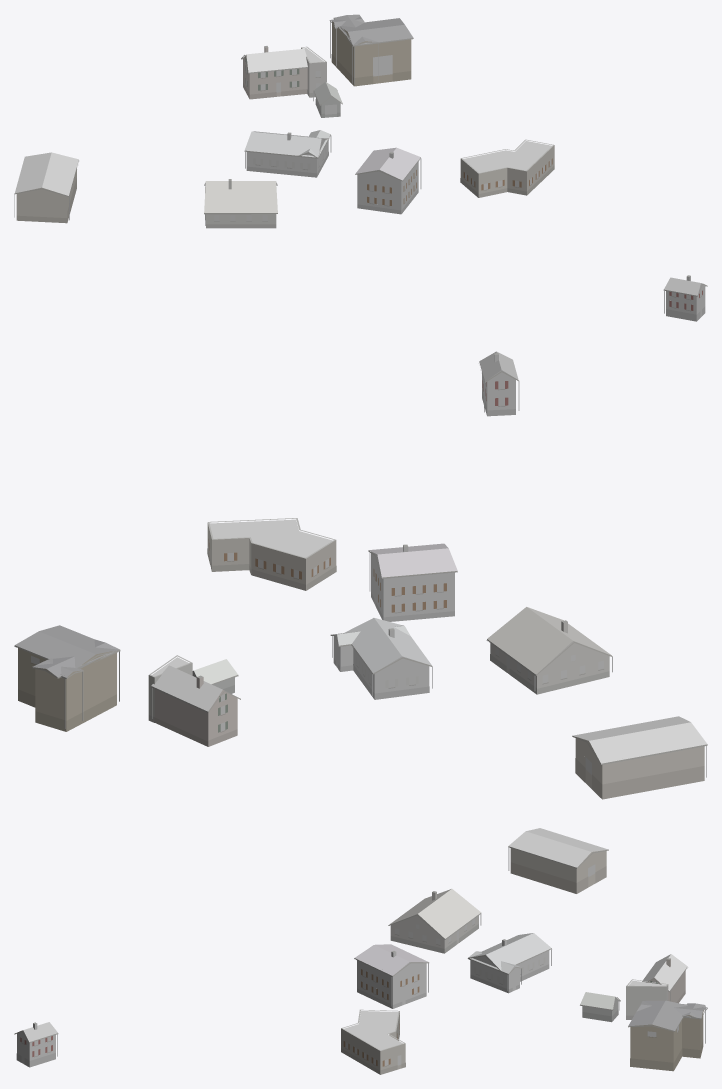
3 renders of one model, top to bottom at view 1: azimuth 30°, elevation 25°; view 2: azimuth 150°, elevation 25°; view 3: azimuth 270°, elevation 25°, orthographic. The views are drawn at different scales.
Visible parts, largest first — view 1: bld; view 2: bld; view 3: bld.
Boxes of the visible parts, <box> form: bld: <box>14,14,707,321</box>; bld: <box>14,351,707,799</box>; bld: <box>14,828,707,1074</box>.
Bounding box in the file's own units: 105 × 12.15 × 140.
